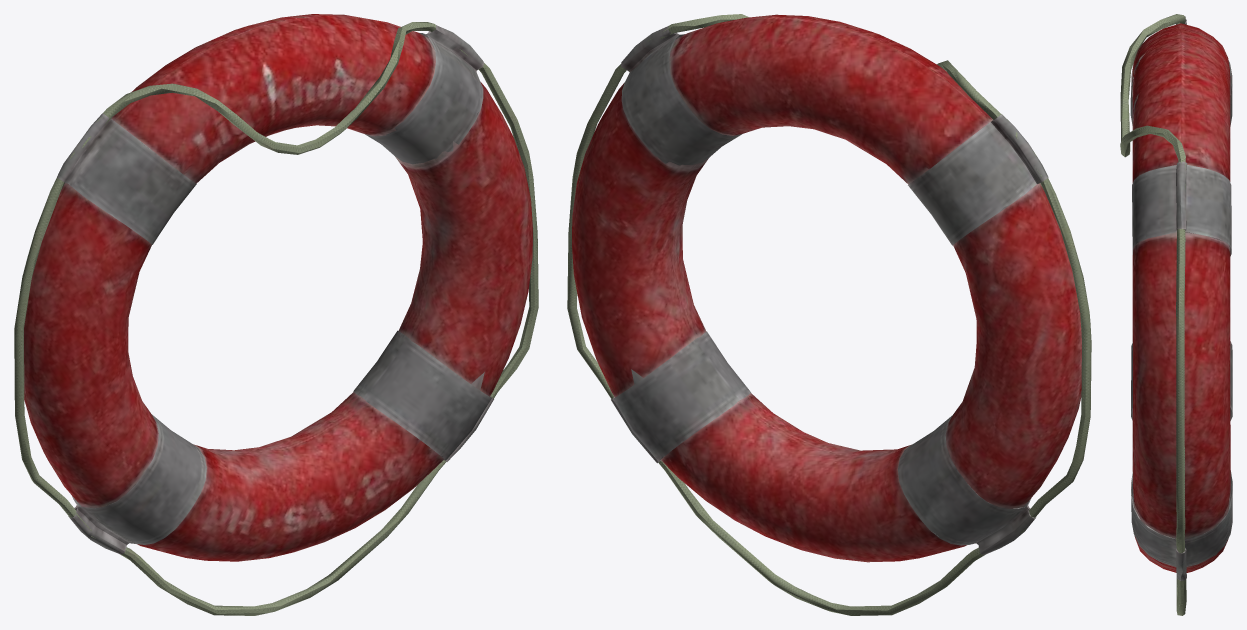
Rendered from lifebuoy.glb.
The picture shows the model from 3 angles, left to right: view 1: azimuth 30°, elevation 25°; view 2: azimuth 150°, elevation 25°; view 3: azimuth 270°, elevation 25°; orthographic projection. The views are drawn at different scales.
Visible parts, largest first — view 1: lifebuoy; view 2: lifebuoy; view 3: lifebuoy.
Part boxes in pixels (<box>): lifebuoy: <box>14,14,538,615</box>; lifebuoy: <box>567,14,1091,615</box>; lifebuoy: <box>1120,14,1232,615</box>.
Bounding box in the file's own units: 0.783 × 0.8416 × 0.155.
1 material, 1 textured.
